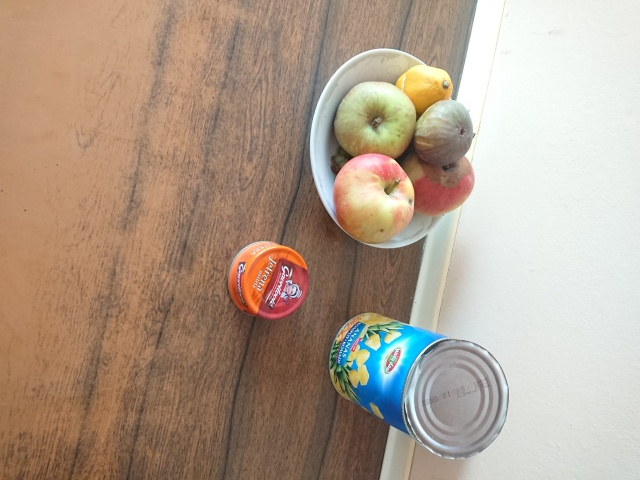Gavrilovic Pork Liver Pate 100g: (224, 238, 312, 322)
